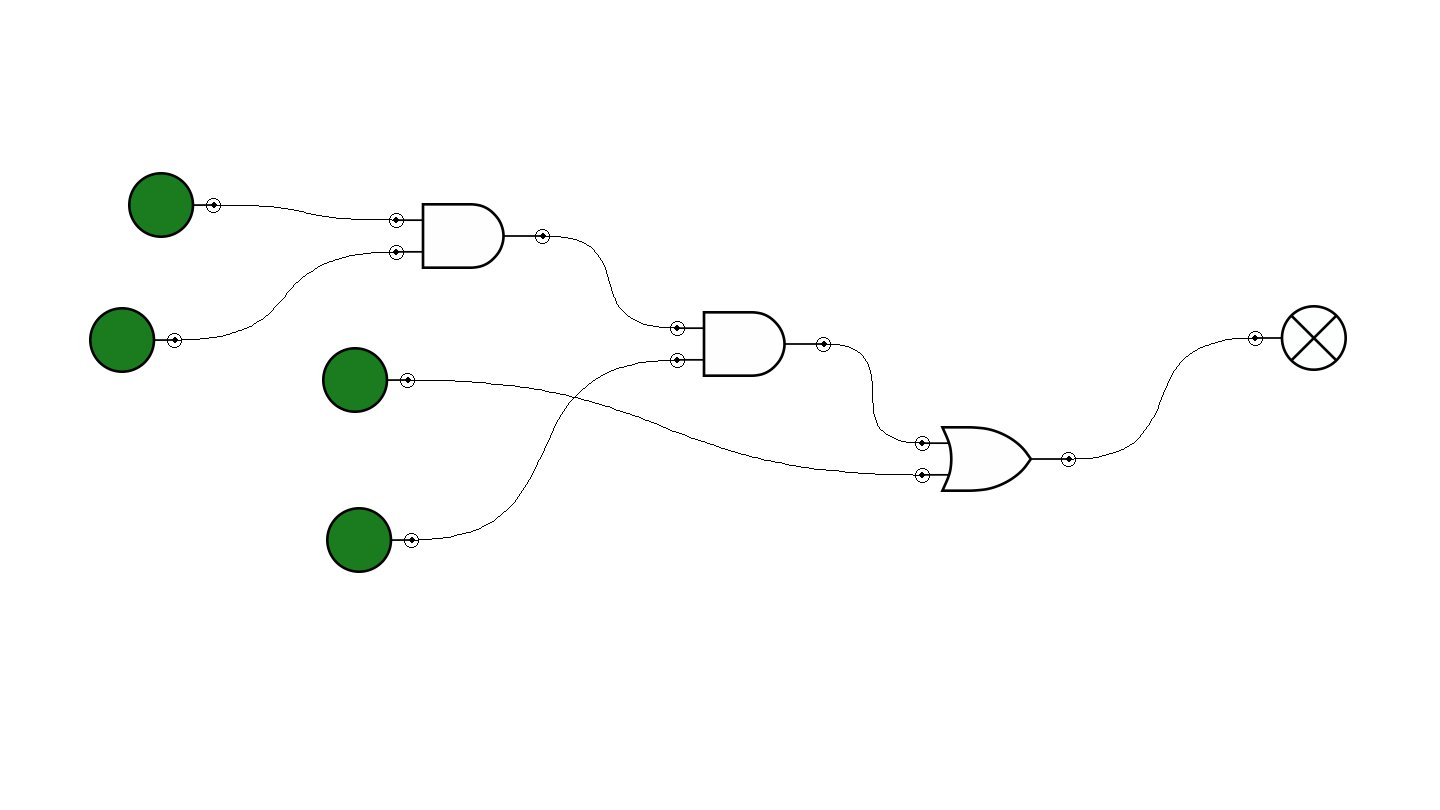and: (670, 311, 831, 377), (389, 203, 550, 269)
bulb: (1248, 305, 1347, 371)
or: (915, 426, 1076, 492)
switch_True: (128, 172, 221, 238), (89, 307, 182, 373), (326, 507, 419, 573), (322, 347, 415, 413)
